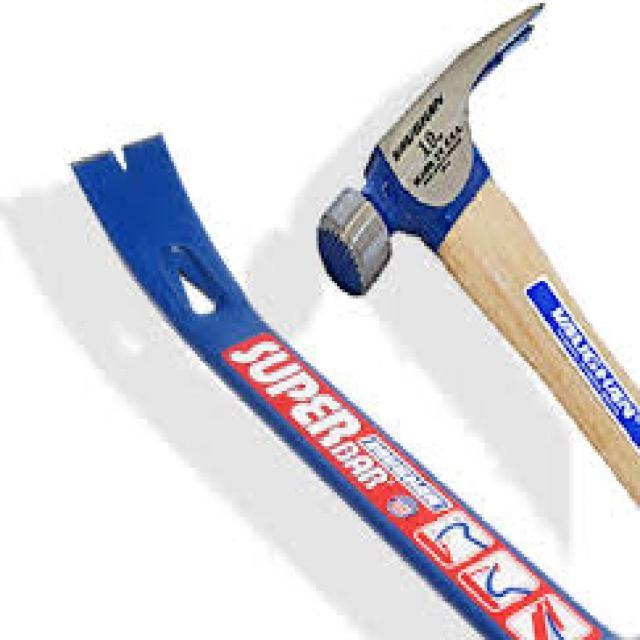Palu: (317, 8, 640, 520)
